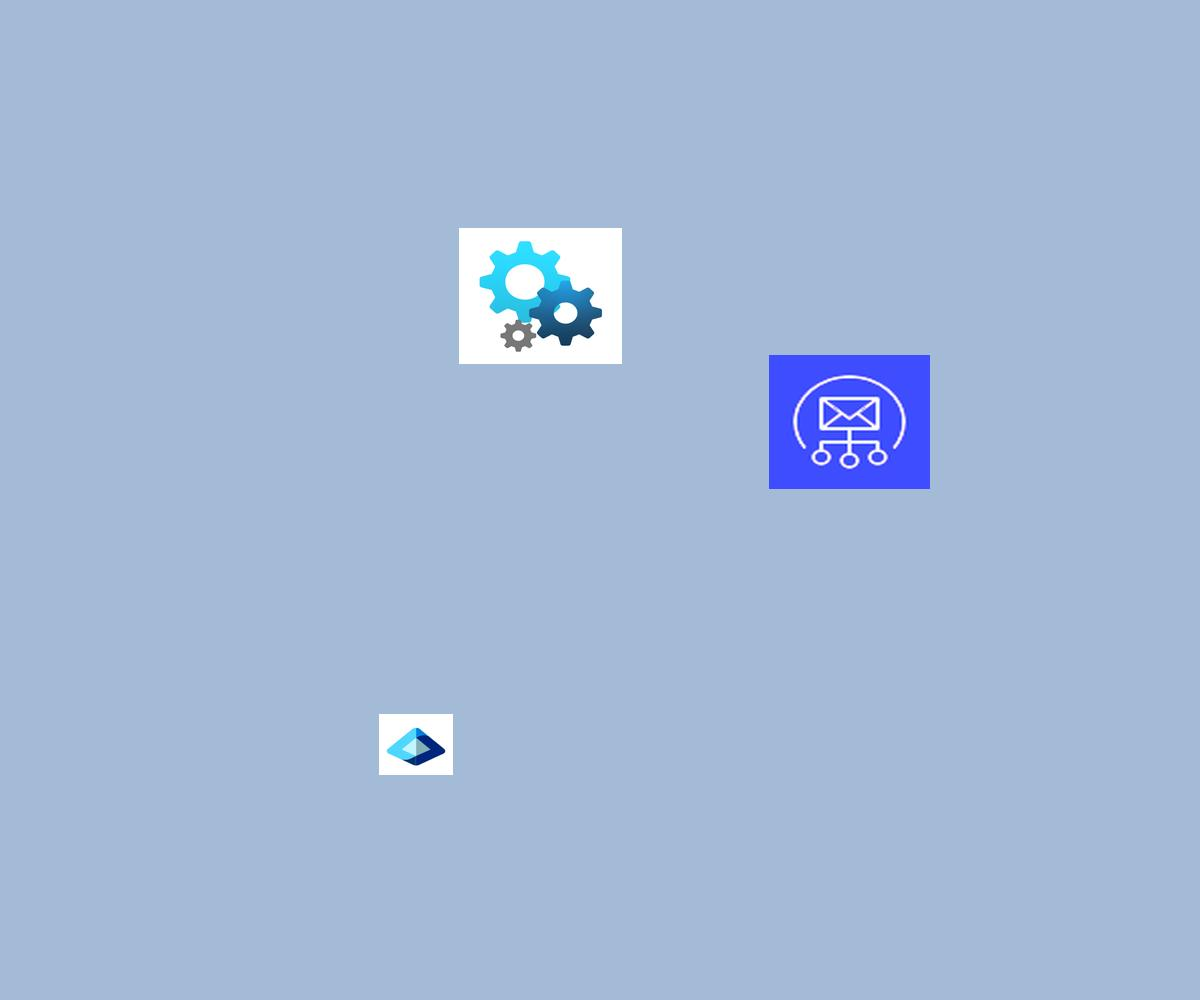AWS-Simple-Email-Service: (769, 355, 930, 489)
Azure_api: (459, 228, 622, 364)
Azure_microsoft_entra: (379, 714, 453, 775)
